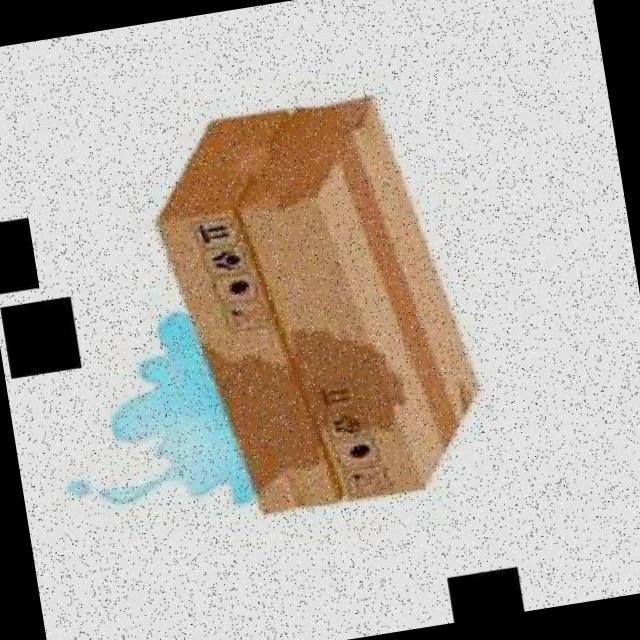box: (133, 80, 497, 529)
